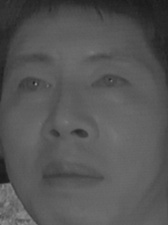eye: (91, 70, 132, 97), (14, 73, 55, 94)
mouth: (38, 158, 106, 194)
